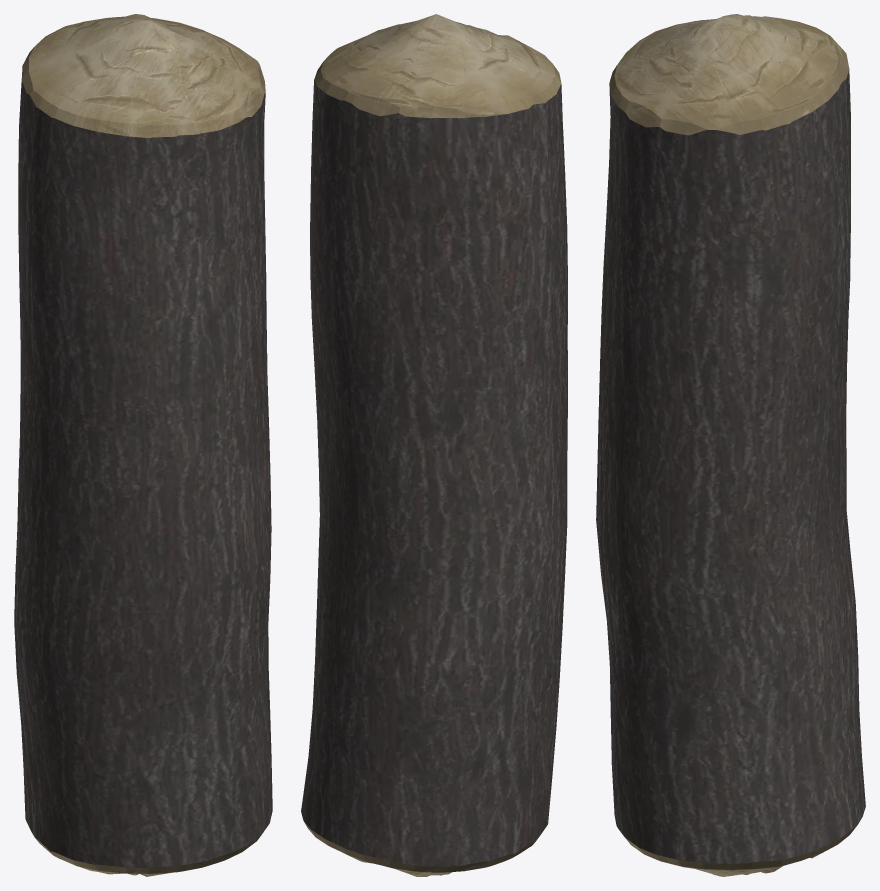
The picture shows the model from 3 angles, left to right: view 1: azimuth 30°, elevation 25°; view 2: azimuth 150°, elevation 25°; view 3: azimuth 270°, elevation 25°; orthographic projection.
Visible parts, largest first — view 1: SM_BM_Oak_Tree_01_quarter_03_LOD0; view 2: SM_BM_Oak_Tree_01_quarter_03_LOD0; view 3: SM_BM_Oak_Tree_01_quarter_03_LOD0.
Boxes of the visible parts, x1,y1,x2,y2 form: SM_BM_Oak_Tree_01_quarter_03_LOD0: (14, 14, 272, 876); SM_BM_Oak_Tree_01_quarter_03_LOD0: (301, 14, 567, 876); SM_BM_Oak_Tree_01_quarter_03_LOD0: (596, 14, 865, 876).
Size of the model in its own units: 0.7816 by 2.79 by 0.7984.
1 material, 1 textured.
